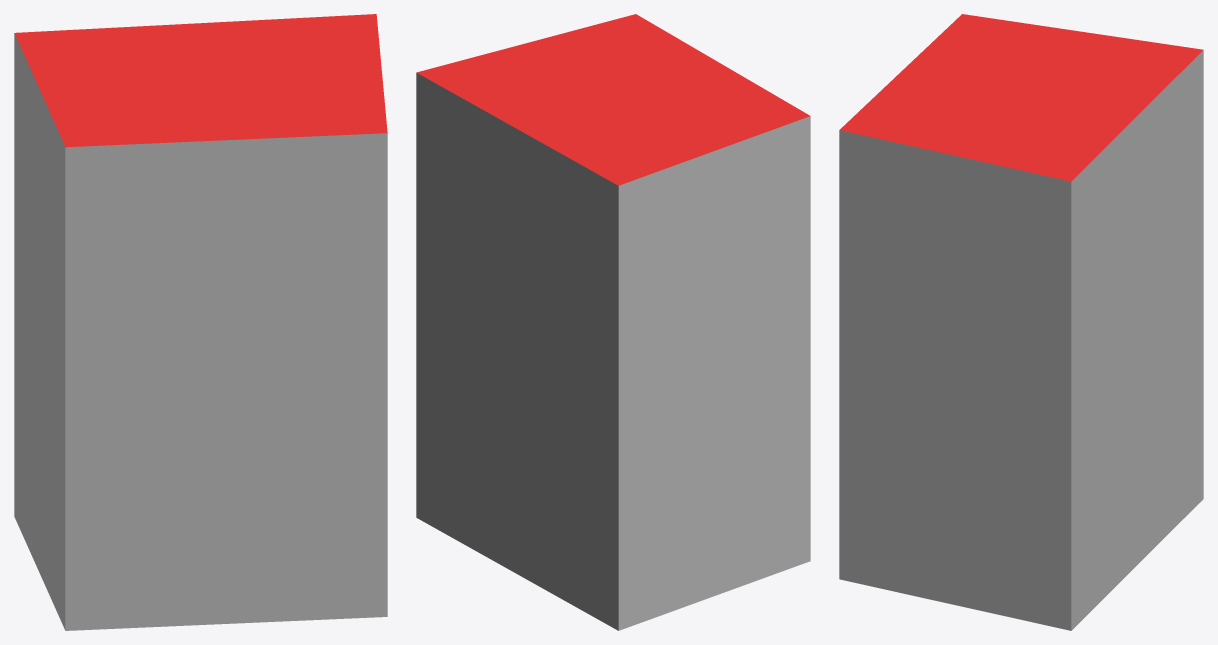
The model's file is DEBY_LOD2_4908151.dae.
3 views of the same model, side by side, from view 1: azimuth 30°, elevation 25°; view 2: azimuth 150°, elevation 25°; view 3: azimuth 270°, elevation 25° (orthographic). The views are drawn at different scales.
Size of the model in its own units: 5.49 by 5.04 by 6.86.
